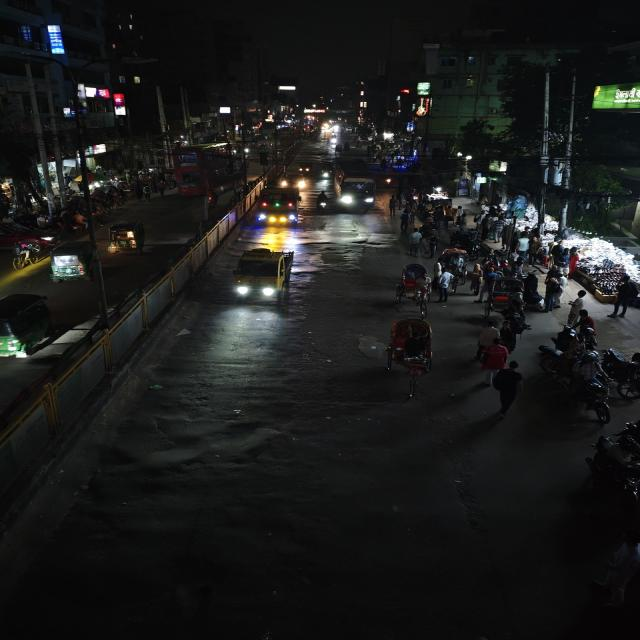bicycle: (429, 274, 450, 304)
bus: (331, 158, 380, 214)
car: (256, 187, 305, 222)
cng: (228, 245, 298, 307), (0, 289, 55, 362), (46, 240, 101, 284), (105, 218, 151, 256), (318, 160, 334, 187), (295, 160, 315, 176)
motorcycle: (539, 350, 613, 425), (586, 431, 640, 510), (602, 346, 640, 402), (619, 419, 640, 468), (316, 189, 331, 213), (277, 170, 292, 190)
pedestrian: (488, 361, 526, 415), (477, 338, 509, 378), (473, 322, 501, 364), (610, 279, 638, 319), (539, 274, 564, 314), (496, 315, 519, 352), (469, 263, 483, 296), (406, 230, 423, 257), (425, 233, 439, 259)
rickshaw: (381, 314, 439, 396), (392, 262, 432, 306)
